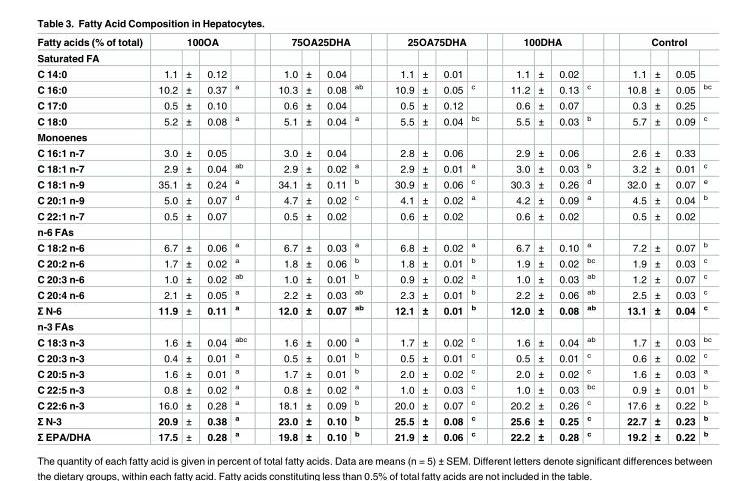table: (36, 37, 710, 442)
table column: (36, 37, 149, 442), (261, 37, 301, 442), (378, 37, 417, 442), (494, 37, 533, 442), (610, 37, 649, 442), (149, 37, 181, 442), (198, 37, 230, 442), (550, 37, 582, 442), (230, 37, 261, 442), (318, 37, 349, 442), (435, 37, 466, 442), (667, 37, 698, 442), (349, 37, 378, 442), (466, 37, 494, 442), (582, 37, 610, 442), (417, 37, 435, 442), (649, 37, 667, 442), (181, 37, 198, 442), (301, 37, 318, 442), (533, 37, 550, 442), (698, 37, 710, 442)
table column header: (36, 37, 710, 65)
table projected row header: (36, 129, 710, 144), (36, 224, 710, 239), (36, 318, 710, 333)
table row: (36, 112, 710, 129), (36, 207, 710, 224), (36, 65, 710, 81), (36, 81, 710, 97), (36, 144, 710, 160), (36, 175, 710, 191), (36, 191, 710, 207), (36, 254, 710, 270), (36, 270, 710, 286), (36, 286, 710, 302), (36, 302, 710, 318), (36, 333, 710, 349), (36, 349, 710, 365), (36, 365, 710, 381), (36, 396, 710, 412), (36, 412, 710, 428), (36, 50, 710, 65), (36, 97, 710, 112), (36, 129, 710, 144), (36, 160, 710, 175), (36, 224, 710, 239), (36, 239, 710, 254), (36, 318, 710, 333), (36, 381, 710, 396), (36, 428, 710, 442), (36, 37, 710, 50)
table spanning cell: (36, 37, 149, 65), (261, 37, 378, 50), (378, 37, 494, 50), (149, 37, 261, 50), (610, 37, 710, 50), (494, 37, 582, 50)
